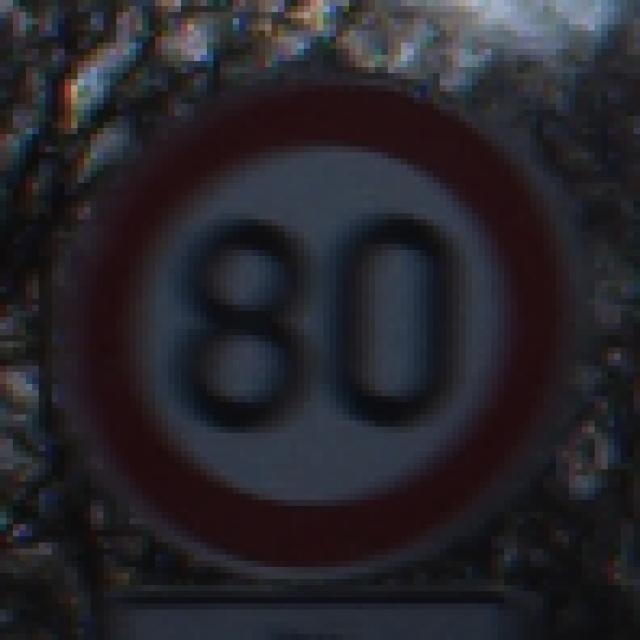Ograniczenie predkosci do 80: (77, 78, 570, 582)
